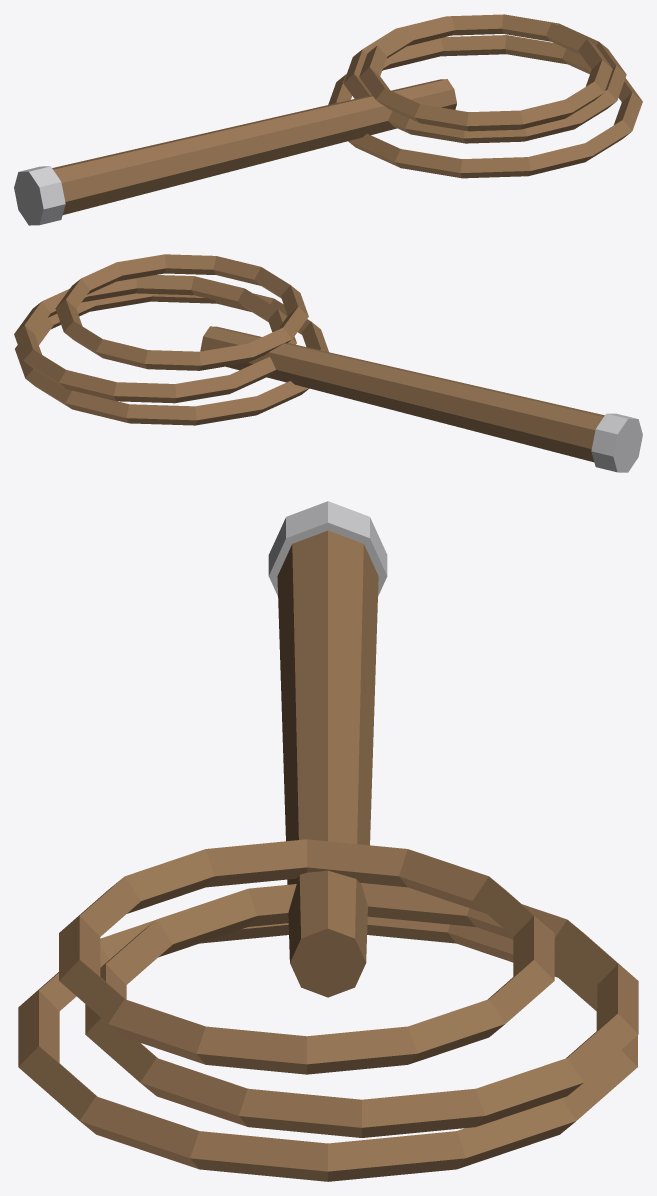
The model's file is latigo.glb.
3 renders of one model, top to bottom at view 1: azimuth 30°, elevation 25°; view 2: azimuth 150°, elevation 25°; view 3: azimuth 270°, elevation 25°, orthographic. The views are drawn at different scales.
Visible parts, largest first — view 1: latigo; view 2: latigo; view 3: latigo.
Part boxes in pixels (x1,y1,x2,y2): latigo: [14, 14, 642, 225]; latigo: [14, 254, 642, 472]; latigo: [18, 501, 638, 1181].
Bounding box in the file's own units: 0.323 × 0.03 × 0.1464.
